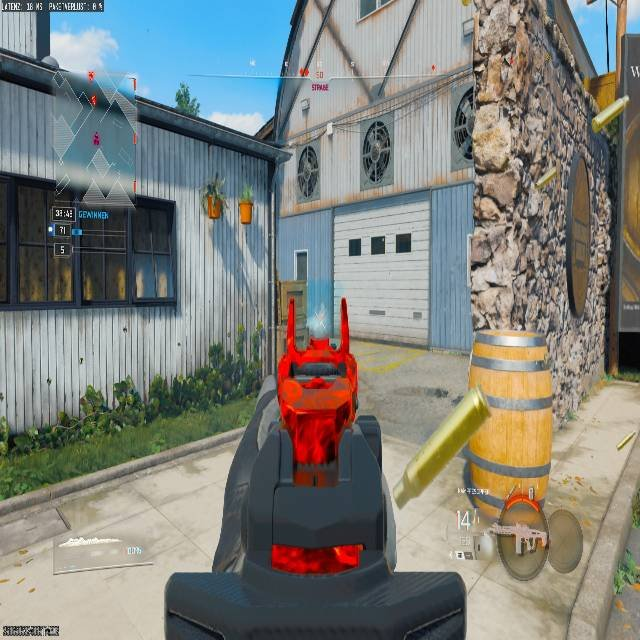player: (362, 120, 392, 183), (297, 145, 320, 198)
